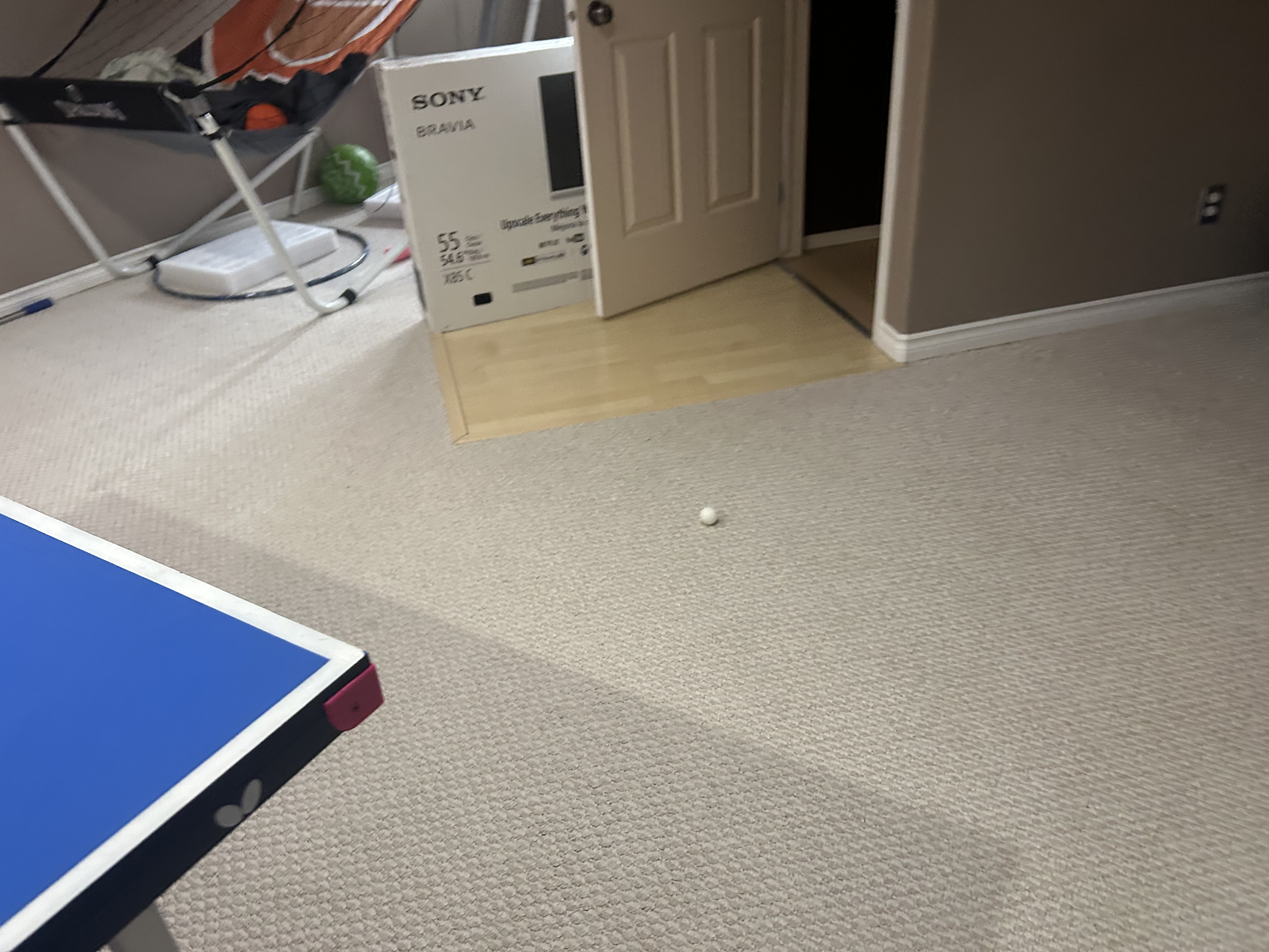Ball: (696, 504, 722, 527)
